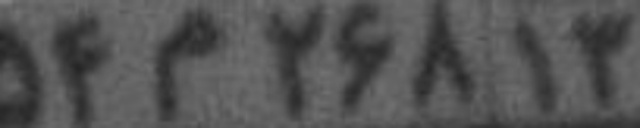1: (512, 16, 558, 112)
2: (264, 3, 324, 120)
3: (569, 11, 636, 105)
4: (52, 17, 107, 127)
5: (0, 26, 40, 125)
6: (336, 4, 397, 106)
8: (413, 1, 481, 103)
mim: (151, 9, 221, 122)
